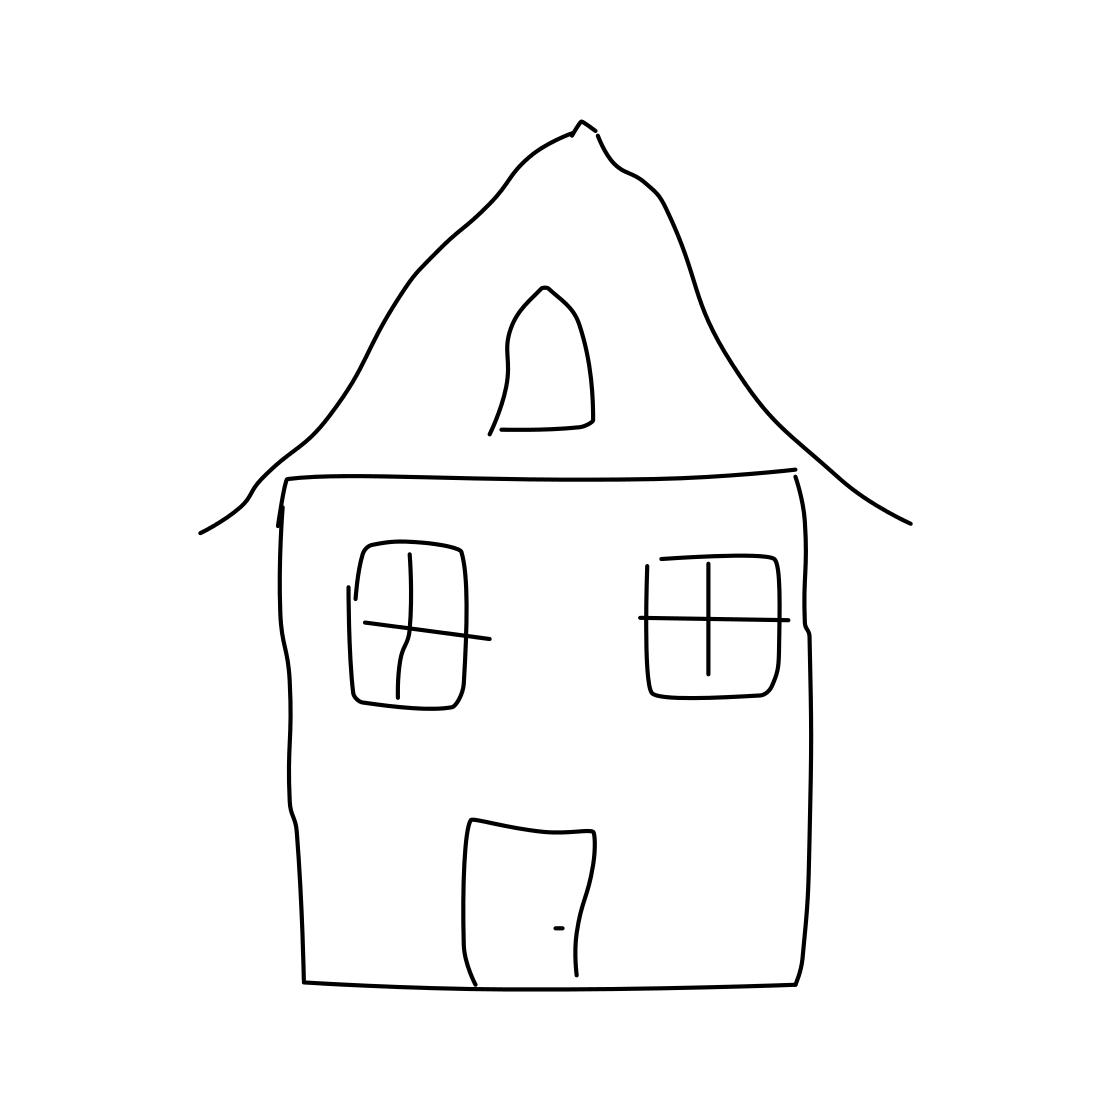House: (140, 113, 913, 1007)
